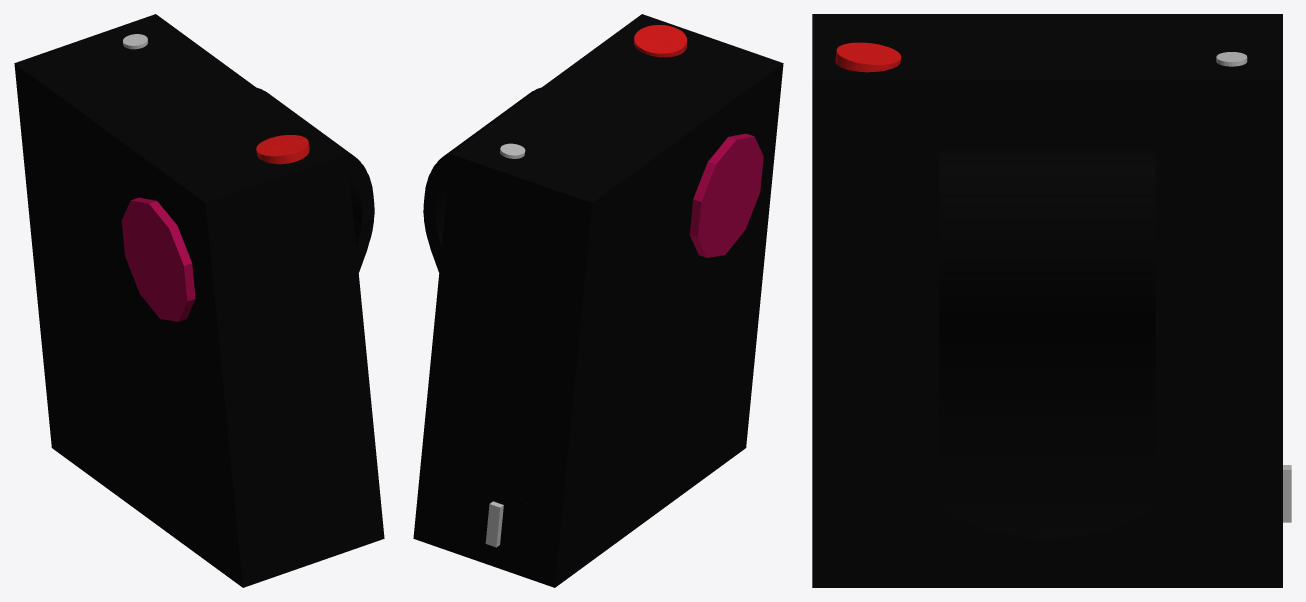
The model's file is Klip_Gürtel_projekt.glb.
The picture shows the model from 3 angles, left to right: view 1: azimuth 30°, elevation 25°; view 2: azimuth 150°, elevation 25°; view 3: azimuth 270°, elevation 25°; orthographic projection. The views are drawn at different scales.
Size of the model in its own units: 0.0475 by 0.0833 by 0.0711.
